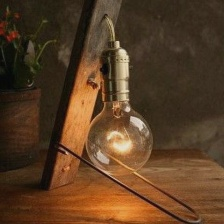light_bulb: (81, 33, 158, 179)
